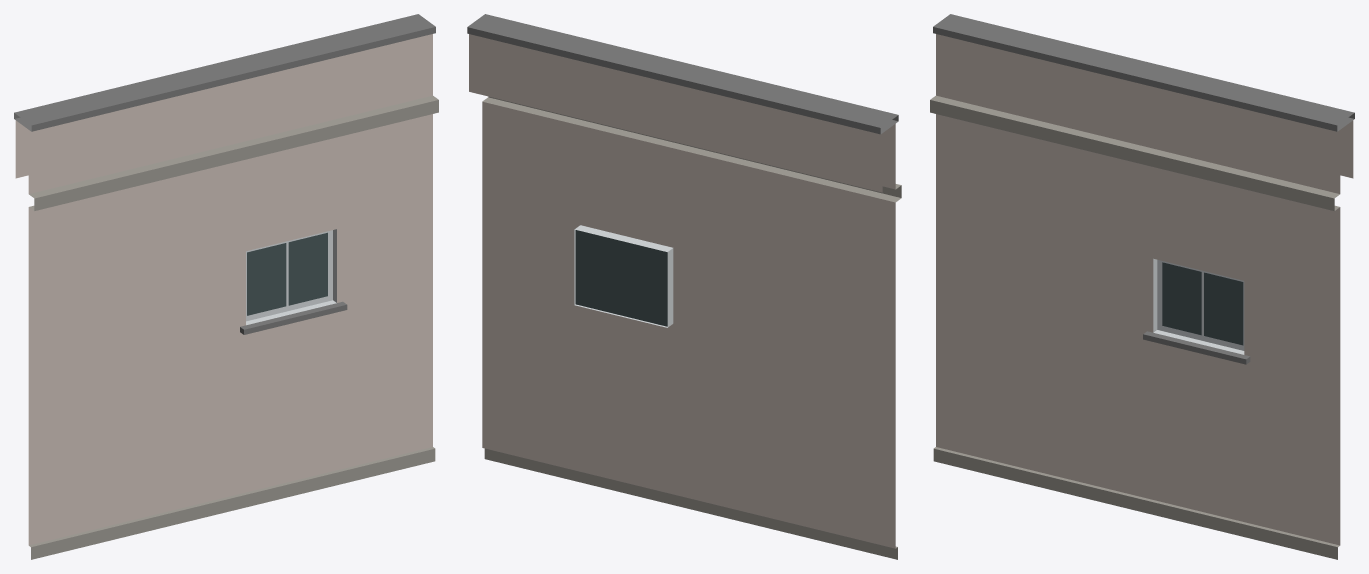
3 views of the same model, side by side, from view 1: azimuth 30°, elevation 25°; view 2: azimuth 150°, elevation 25°; view 3: azimuth 330°, elevation 25° (orthographic). The views are drawn at different scales.
Parts seen in each view (by area): view 1: a2003/0/base-w2; view 2: a2003/0/base-w2; view 3: a2003/0/base-w2.
Part boxes in pixels (<box>): a2003/0/base-w2: <box>14,14,438,559</box>; a2003/0/base-w2: <box>467,14,901,559</box>; a2003/0/base-w2: <box>930,14,1354,559</box>.
Size of the model in its own units: 4 by 4.11 by 0.35.
